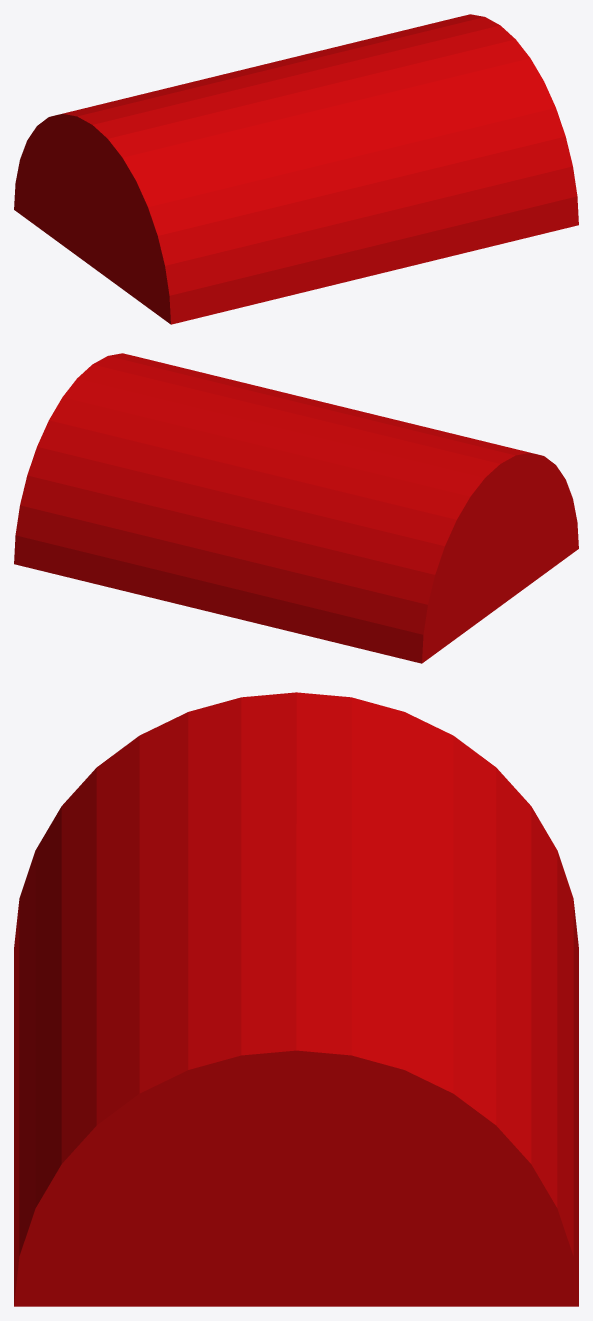
File: BigCylinder.fbx
3 views of the same model, one above another, from view 1: azimuth 30°, elevation 25°; view 2: azimuth 150°, elevation 25°; view 3: azimuth 270°, elevation 25° (orthographic). The views are drawn at different scales.
Visible parts, largest first — view 1: Cylinder; view 2: Cylinder; view 3: Cylinder.
Boxes of the visible parts, x1,y1,x2,y2 form: Cylinder: [14, 14, 578, 324]; Cylinder: [14, 353, 578, 663]; Cylinder: [14, 692, 578, 1306].
Size of the model in its own units: 600 by 200 by 400.
